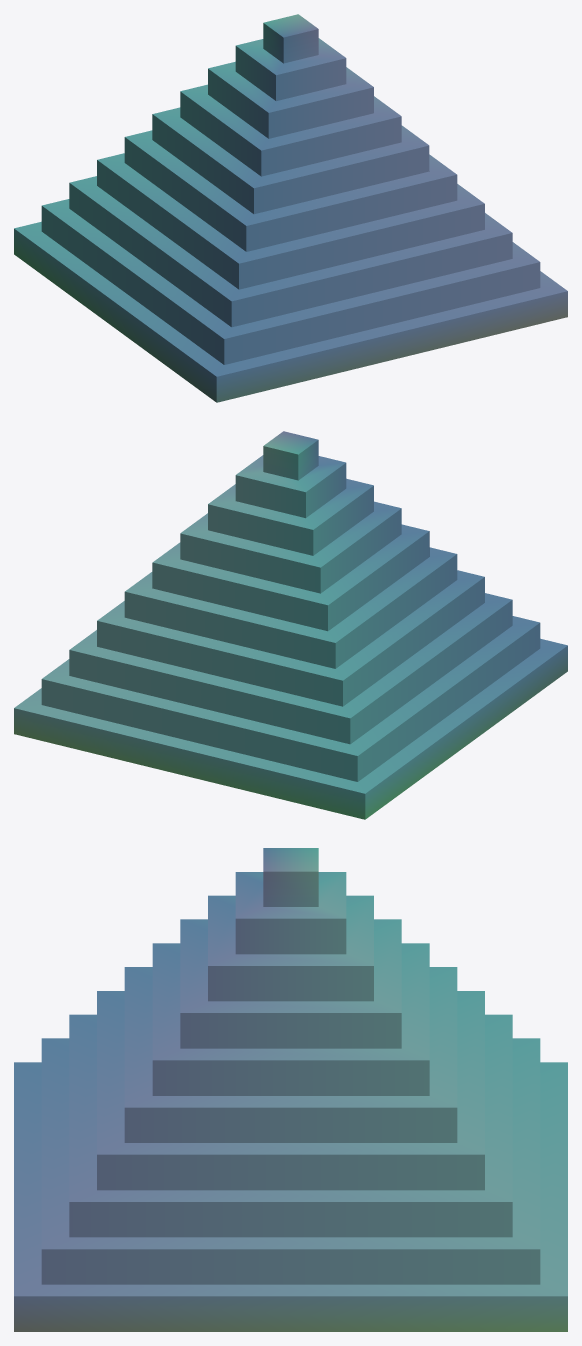
3 views of the same model, one above another, from view 1: azimuth 30°, elevation 25°; view 2: azimuth 150°, elevation 25°; view 3: azimuth 270°, elevation 25° (orthographic). The views are drawn at different scales.
Visible parts, largest first — view 1: Pyramid; view 2: Pyramid; view 3: Pyramid.
Boxes of the visible parts, <box> form: Pyramid: <box>14,14,567,402</box>; Pyramid: <box>14,431,567,819</box>; Pyramid: <box>14,848,567,1331</box>.
Size of the model in its own units: 141 by 100 by 141.
